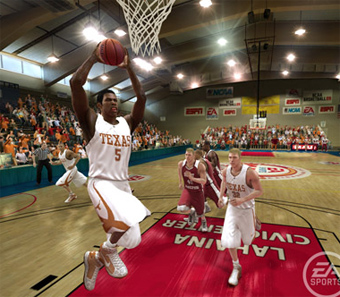basketball: (98, 39, 125, 66)
